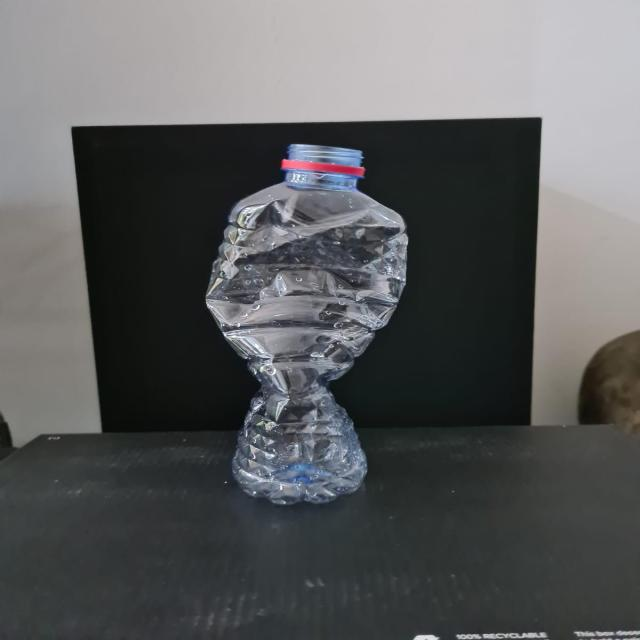bottle: (200, 130, 416, 518)
